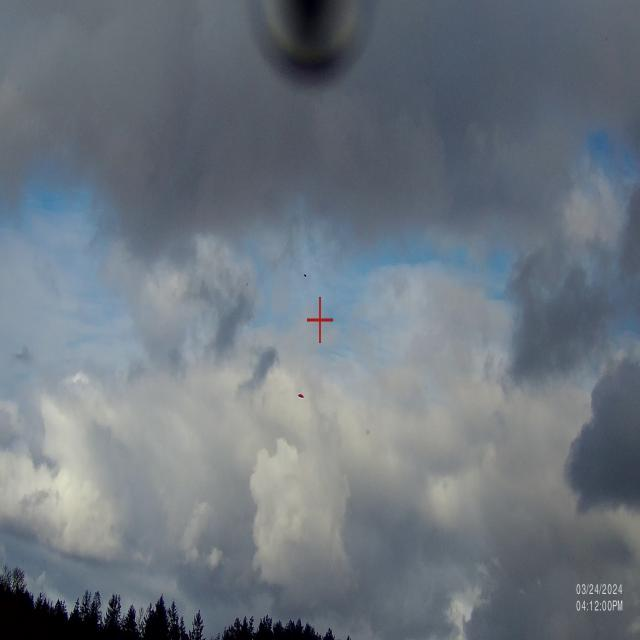entire: (293, 384, 307, 406)
